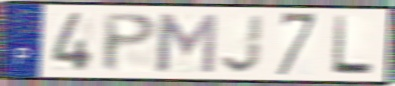4: (49, 10, 95, 73)
7: (275, 11, 320, 78)
J: (217, 13, 266, 75)
L: (330, 14, 375, 77)
M: (155, 11, 220, 75)
P: (101, 11, 159, 74)
